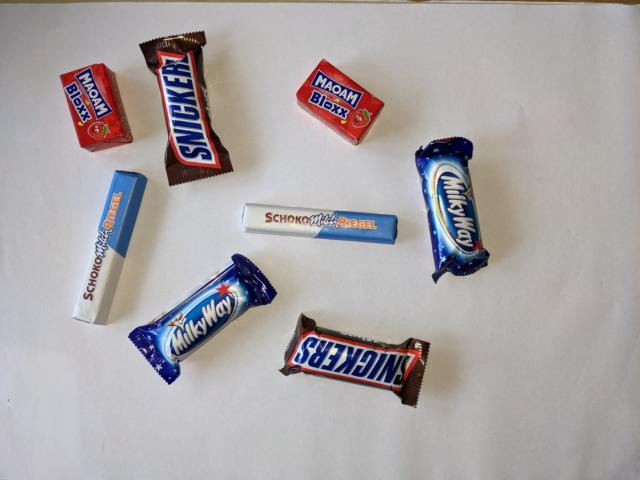MAOAM: (292, 56, 388, 150), (57, 62, 136, 154)
MilkyWay: (126, 251, 280, 386), (413, 134, 492, 285)
Schokoriegel: (68, 167, 150, 330), (236, 199, 400, 247)
Snickers: (136, 28, 237, 190), (276, 311, 433, 410)
